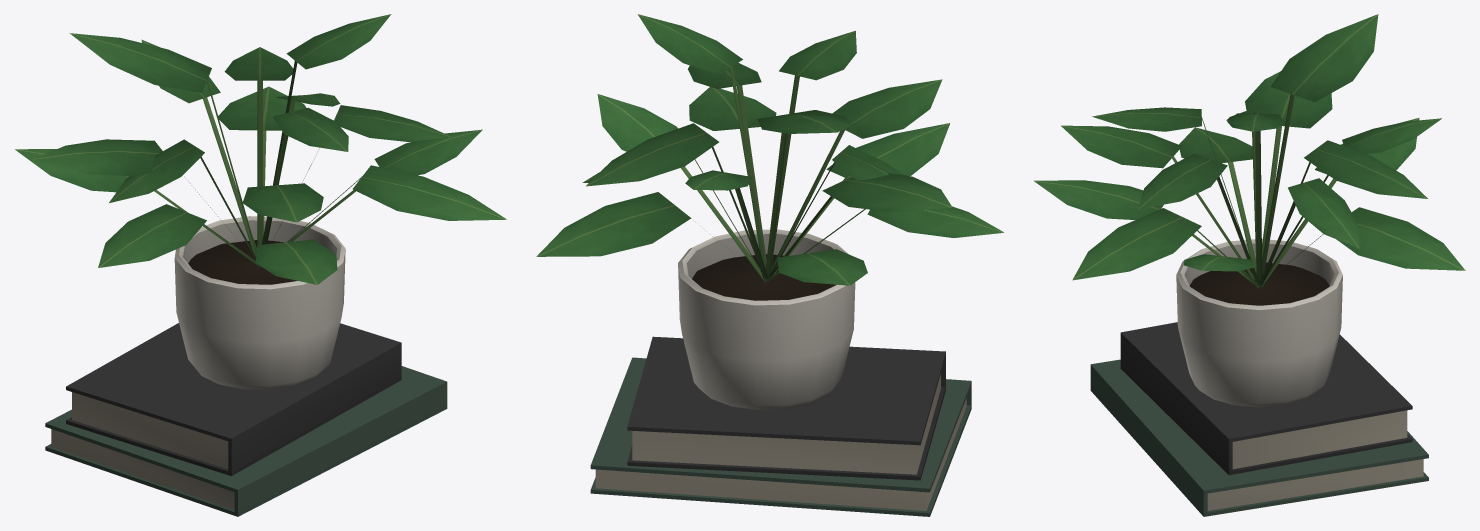
Rendered from decor_a_table_side_plant_den.gltf.
3 views of the same model, side by side, from view 1: azimuth 30°, elevation 25°; view 2: azimuth 150°, elevation 25°; view 3: azimuth 270°, elevation 25° (orthographic). The views are drawn at different scales.
Visible parts, largest first — view 1: DecorATableSidePlantDen_leaf_NoCollide, DecorATableSidePlantDen_BookCharcoal_NoCollide, DecorATableSidePlantDen_glaze_NoCollide, DecorATableSidePlantDen_BookMoss_NoCollide, DecorATableSidePlantDen_BookCream_NoCollide, DecorATableSidePlantDen_soil_NoCollide; view 2: DecorATableSidePlantDen_leaf_NoCollide, DecorATableSidePlantDen_BookCharcoal_NoCollide, DecorATableSidePlantDen_glaze_NoCollide, DecorATableSidePlantDen_BookCream_NoCollide, DecorATableSidePlantDen_BookMoss_NoCollide, DecorATableSidePlantDen_soil_NoCollide; view 3: DecorATableSidePlantDen_leaf_NoCollide, DecorATableSidePlantDen_glaze_NoCollide, DecorATableSidePlantDen_BookCharcoal_NoCollide, DecorATableSidePlantDen_BookMoss_NoCollide, DecorATableSidePlantDen_BookCream_NoCollide, DecorATableSidePlantDen_soil_NoCollide.
Part boxes in pixels (x1=…): DecorATableSidePlantDen_leaf_NoCollide: x1=15, y1=14, x2=506, y2=284; DecorATableSidePlantDen_BookCharcoal_NoCollide: x1=66, y1=323, x2=401, y2=475; DecorATableSidePlantDen_glaze_NoCollide: x1=174, y1=216, x2=345, y2=389; DecorATableSidePlantDen_BookMoss_NoCollide: x1=45, y1=366, x2=447, y2=516; DecorATableSidePlantDen_BookCream_NoCollide: x1=51, y1=392, x2=234, y2=509; DecorATableSidePlantDen_soil_NoCollide: x1=188, y1=240, x2=297, y2=284; DecorATableSidePlantDen_leaf_NoCollide: x1=536, y1=14, x2=1003, y2=285; DecorATableSidePlantDen_BookCharcoal_NoCollide: x1=627, y1=336, x2=945, y2=480; DecorATableSidePlantDen_glaze_NoCollide: x1=678, y1=229, x2=855, y2=409; DecorATableSidePlantDen_BookCream_NoCollide: x1=595, y1=374, x2=966, y2=510; DecorATableSidePlantDen_BookMoss_NoCollide: x1=590, y1=357, x2=971, y2=516; DecorATableSidePlantDen_soil_NoCollide: x1=692, y1=254, x2=836, y2=300; DecorATableSidePlantDen_leaf_NoCollide: x1=1033, y1=14, x2=1465, y2=287; DecorATableSidePlantDen_glaze_NoCollide: x1=1176, y1=239, x2=1342, y2=407; DecorATableSidePlantDen_BookCharcoal_NoCollide: x1=1120, y1=322, x2=1412, y2=475; DecorATableSidePlantDen_BookMoss_NoCollide: x1=1090, y1=359, x2=1428, y2=516; DecorATableSidePlantDen_BookCream_NoCollide: x1=1207, y1=410, x2=1423, y2=510; DecorATableSidePlantDen_soil_NoCollide: x1=1189, y1=262, x2=1329, y2=305.
Bounding box in the file's own units: 0.3248 × 0.3004 × 0.3176.
6 materials, 1 textured.
